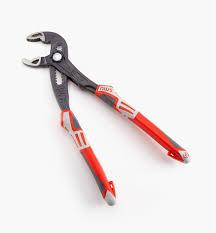pliers: (20, 30, 189, 205)
